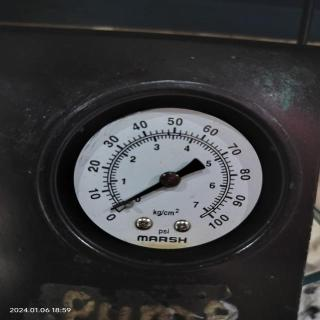gauge: (2, 54, 306, 292), (104, 196, 131, 223), (195, 203, 217, 229), (159, 171, 181, 189), (106, 203, 118, 213)
